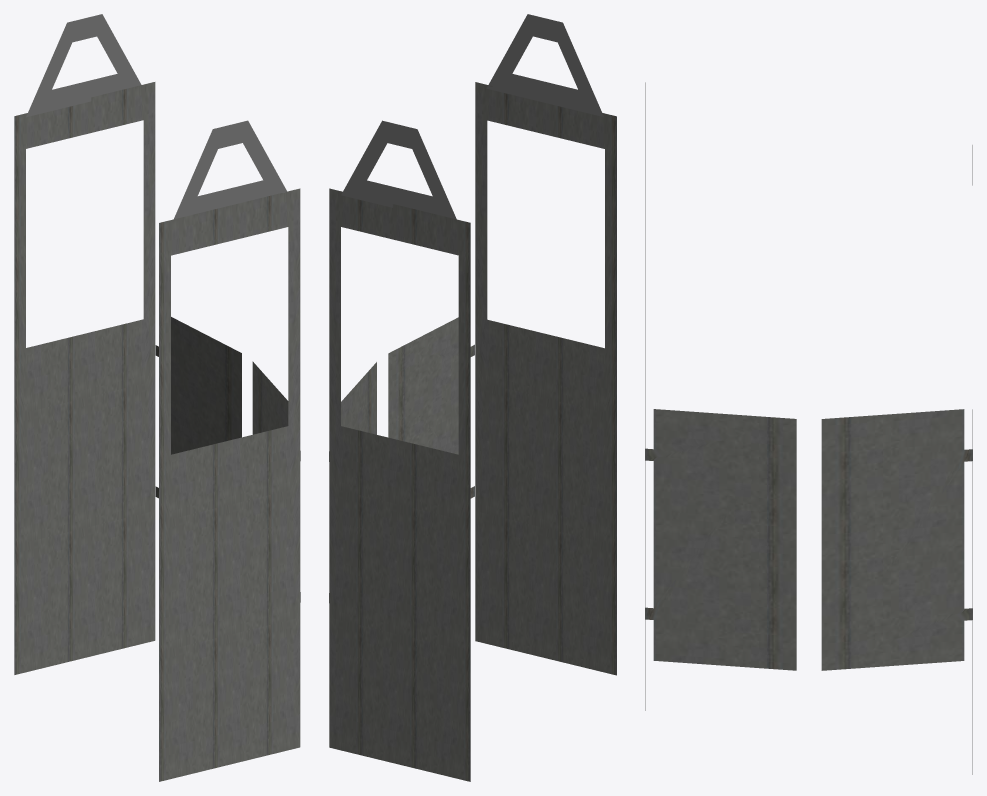
File: gate_door.fbx
3 renders of one model, left to right at view 1: azimuth 30°, elevation 25°; view 2: azimuth 150°, elevation 25°; view 3: azimuth 270°, elevation 25°, orthographic. The views are drawn at different scales.
Parts seen in each view (by area): view 1: polySurface1354, polySurface1352, polySurface1355; view 2: polySurface1354, polySurface1355, polySurface1352; view 3: polySurface1352, polySurface1355, polySurface1354.
Boxes of the visible parts, <box> form: polySurface1354: <box>14,14,300,781</box>; polySurface1352: <box>155,317,241,498</box>; polySurface1355: <box>252,361,300,602</box>; polySurface1354: <box>329,14,616,781</box>; polySurface1355: <box>388,317,474,498</box>; polySurface1352: <box>329,362,376,602</box>; polySurface1352: <box>821,409,972,670</box>; polySurface1355: <box>645,409,796,670</box>; polySurface1354: <box>645,82,972,774</box>.
Size of the model in its own units: 19.87 by 75.33 by 31.09.
